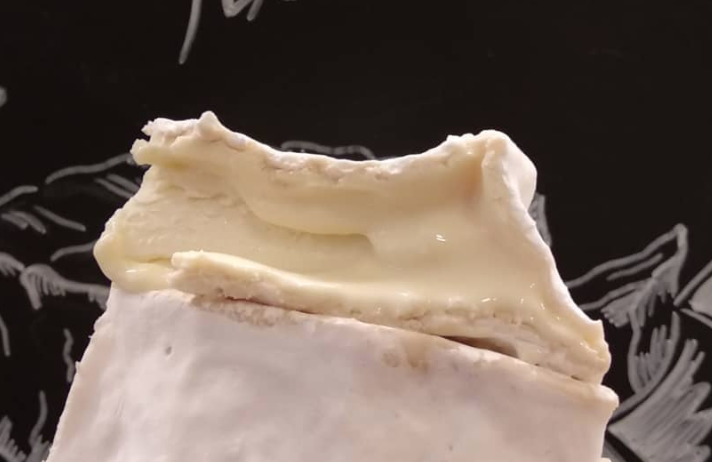camembert: (90, 108, 612, 381)
